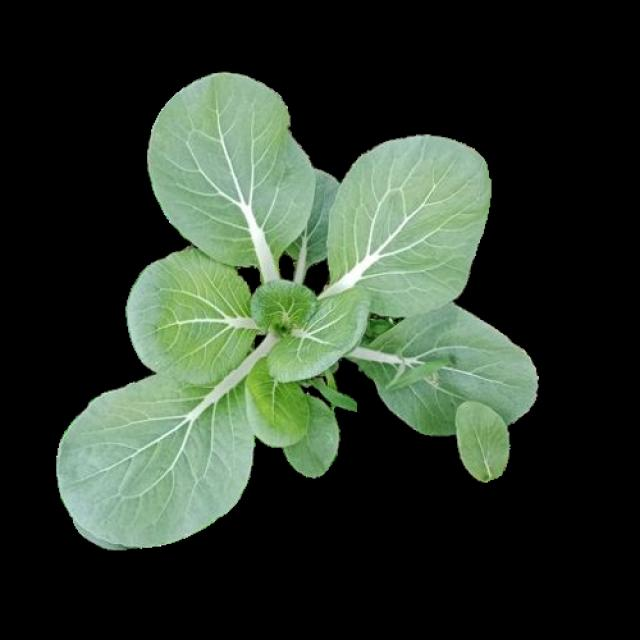healthy: (55, 69, 536, 544)
not-mature: (57, 71, 539, 546)
